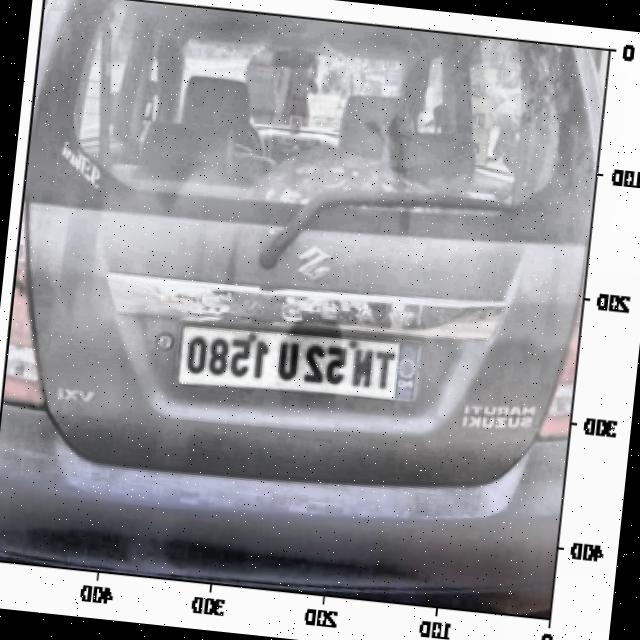license_plate: (176, 316, 402, 406)
